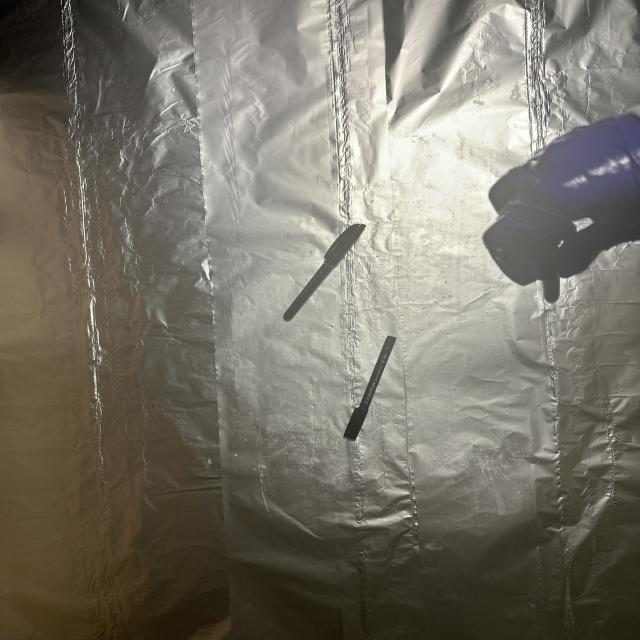gloves_contaminated: (483, 115, 640, 285)
